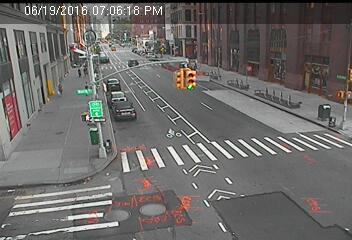neg: (108, 173, 129, 201), (212, 146, 231, 171), (309, 79, 326, 101), (243, 146, 259, 168), (289, 134, 305, 156), (48, 134, 64, 155), (185, 95, 200, 115), (41, 180, 56, 199), (179, 203, 194, 222), (219, 99, 233, 117), (260, 62, 274, 80), (50, 98, 64, 115), (135, 134, 149, 151), (20, 74, 33, 92), (257, 20, 270, 37), (48, 11, 61, 28), (326, 112, 338, 129), (166, 19, 178, 34), (16, 120, 28, 135), (276, 97, 288, 112), (203, 24, 214, 39), (228, 199, 239, 214), (83, 10, 94, 24), (37, 45, 48, 59), (228, 27, 238, 41), (136, 15, 146, 29), (317, 36, 326, 48), (143, 211, 152, 223), (272, 194, 280, 205), (82, 110, 89, 119)
pos: (52, 78, 66, 98), (82, 80, 92, 94), (81, 64, 91, 78), (76, 66, 85, 78)
